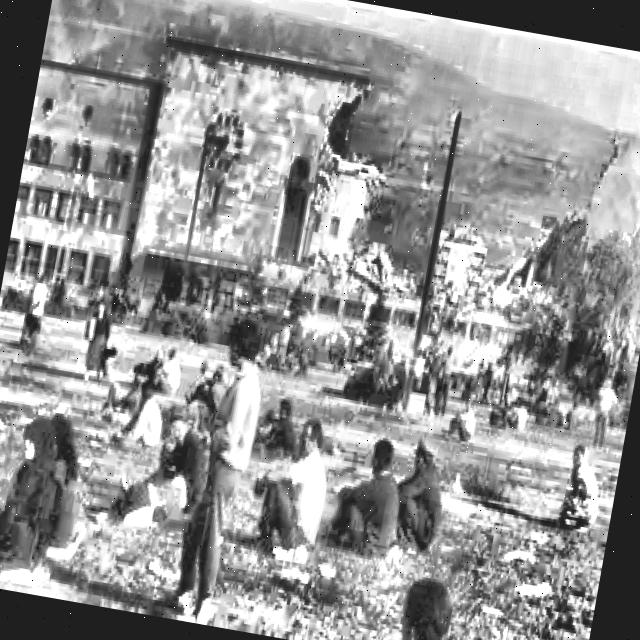old railway: (112, 32, 405, 340)
